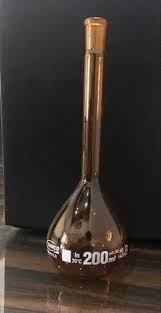Volumetric flask: (39, 10, 136, 282)
